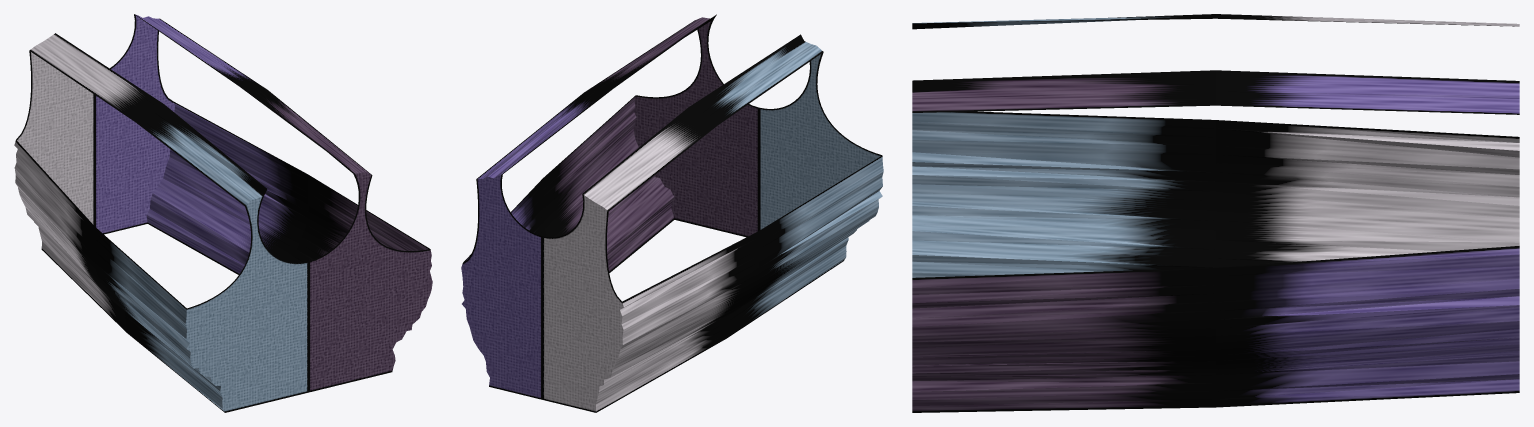
Rendered from tank_knit4_r60_boxmesh.obj.
3 views of the same model, side by side, from view 1: azimuth 30°, elevation 25°; view 2: azimuth 150°, elevation 25°; view 3: azimuth 270°, elevation 25° (orthographic). The views are drawn at different scales.
Size of the model in its own units: 36.66 by 31.16 by 55.
Materials: 1 (1 with a texture image).
